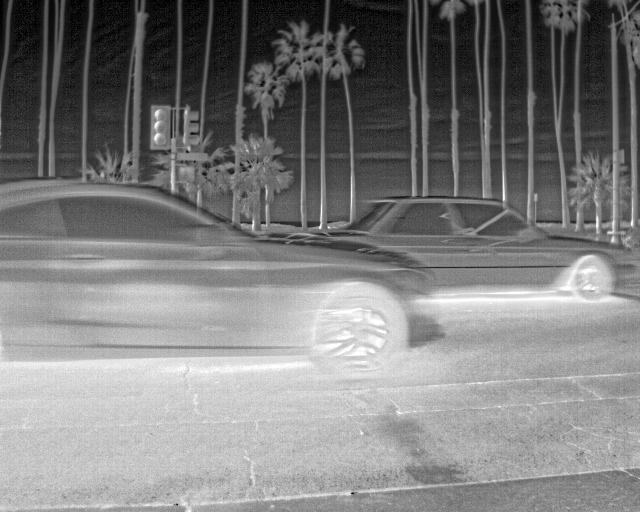car: (0, 177, 442, 382), (417, 195, 639, 303), (346, 194, 415, 242)
